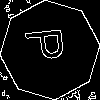P: (25, 25, 74, 63)
